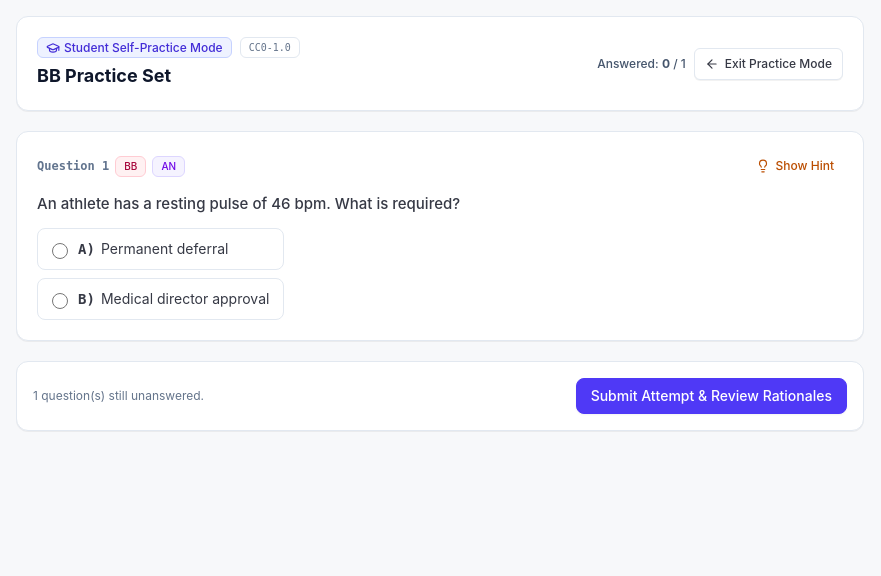
StudentPracticeView › hides answers and rationales until submitted, toggles hint, and scores attempt
expect the text "Requires medical director sign-off" is not shown: met
expect the text "High vagal tone in marathon runners" is not shown: met
Click the button "Show Hint" at [795, 166], box [747,152,843,180]
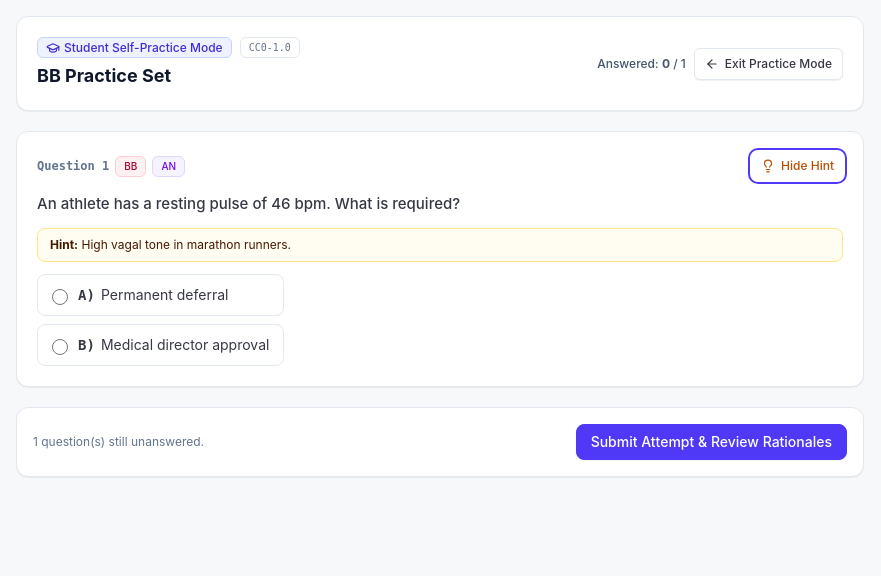
expect the text "Hint: High vagal tone in marathon runners." is shown: met, box [37,228,843,262]
Click the radio button labelled "B)Medical director approval" at [60, 347], box [52,339,68,355]
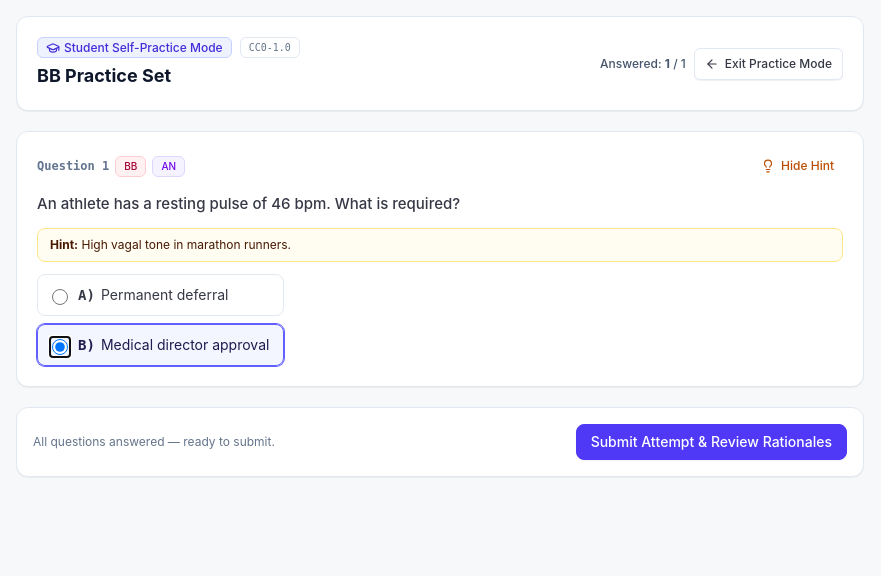
Click the button "Submit Attempt & Review Rationales" at [711, 442], box [576,424,847,460]
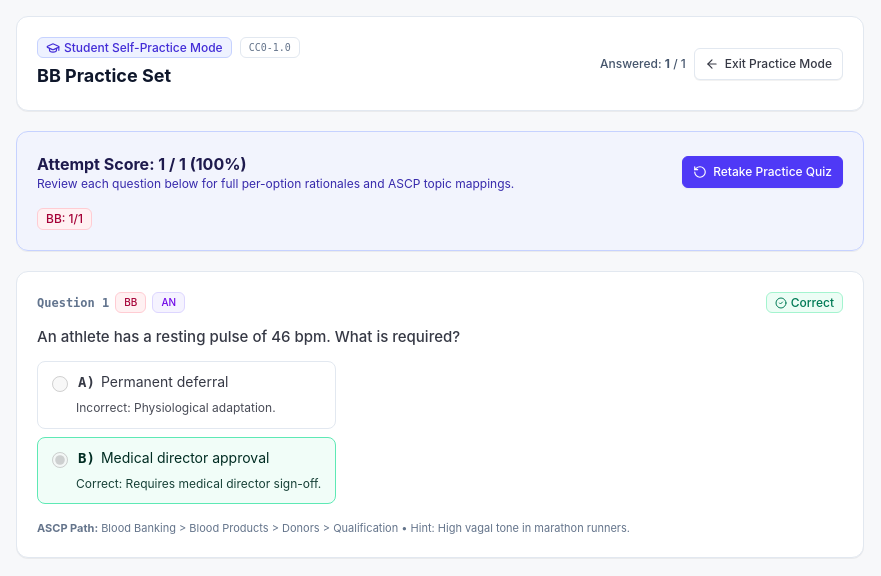
expect the heading "Attempt Score: 1 / 1 (100%)" is shown: met, box [37,154,246,174]
expect the text "Correct: Requires medical director sign-off." is shown: met, box [52,474,321,493]
